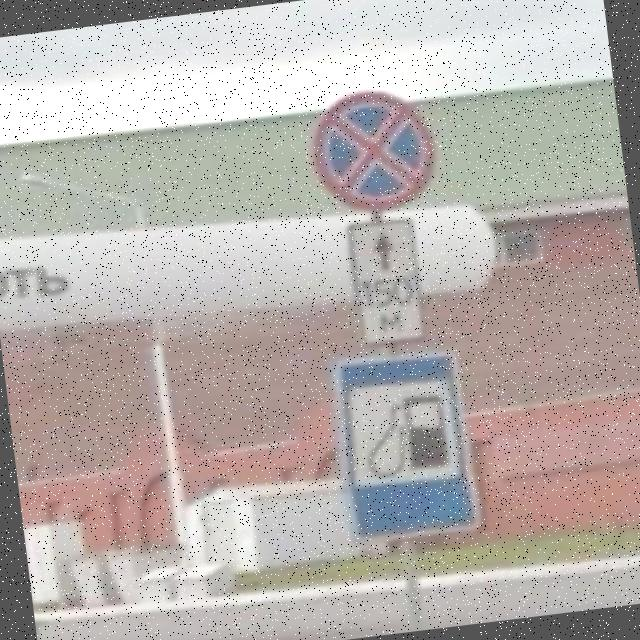Zakaz zatrzymywania sie: (304, 80, 448, 222)
